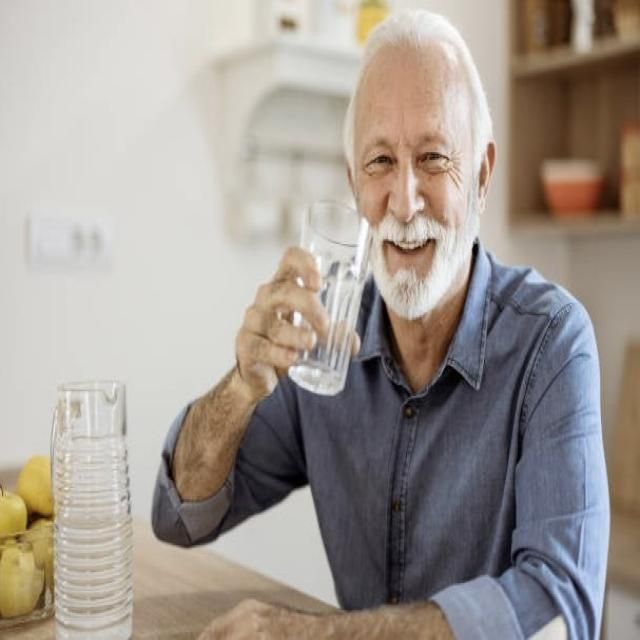eating-person: (142, 0, 623, 640)
